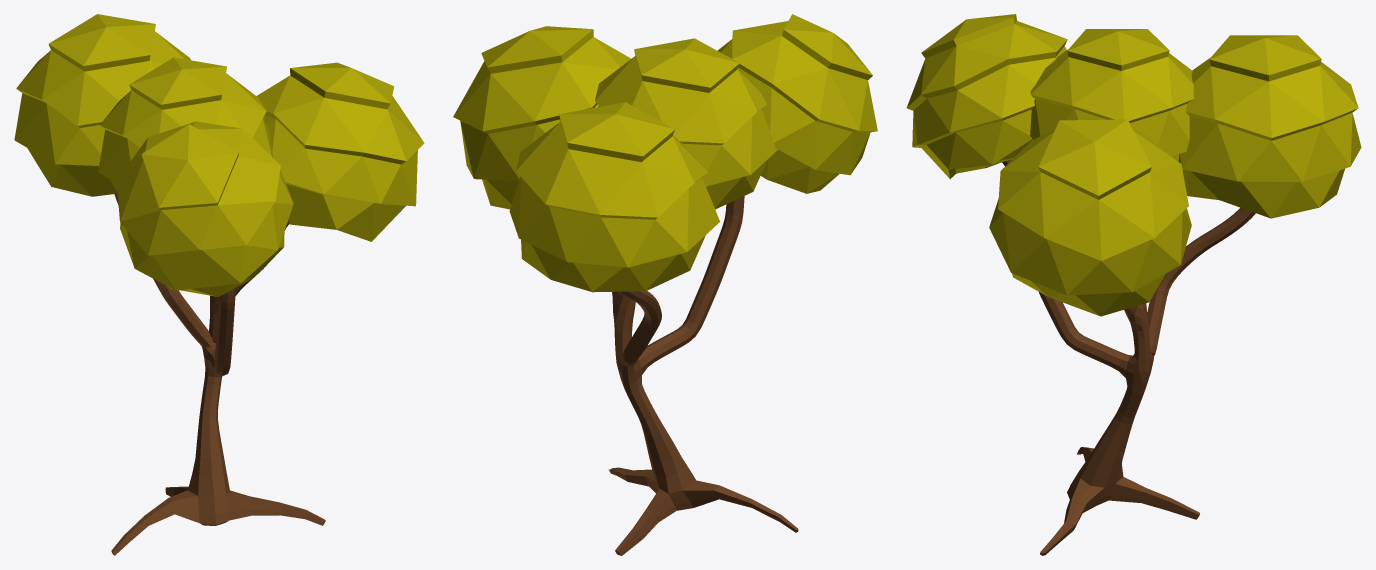
File: Tree006.fbx
3 renders of one model, left to right at view 1: azimuth 30°, elevation 25°; view 2: azimuth 150°, elevation 25°; view 3: azimuth 270°, elevation 25°, orthographic. The views are drawn at different scales.
Parts seen in each view (by area): view 1: TreeStem006, Cube; view 2: TreeStem006, Cube; view 3: TreeStem006, Cube.
Boxes of the visible parts, x1=… form: TreeStem006: x1=14, y1=14, x2=424, y2=296; Cube: x1=111, y1=193, x2=325, y2=555; TreeStem006: x1=453, y1=14, x2=877, y2=292; Cube: x1=609, y1=196, x2=798, y2=555; TreeStem006: x1=906, y1=14, x2=1361, y2=316; Cube: x1=1002, y1=159, x2=1255, y2=555.
Bounding box in the file's own units: 240 × 315 × 274.
